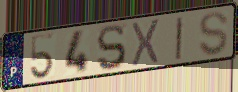4: (63, 28, 92, 75)
5: (29, 31, 59, 82)
I: (175, 15, 186, 62)
S: (96, 23, 128, 73), (197, 11, 230, 58)
X: (131, 17, 162, 69)
